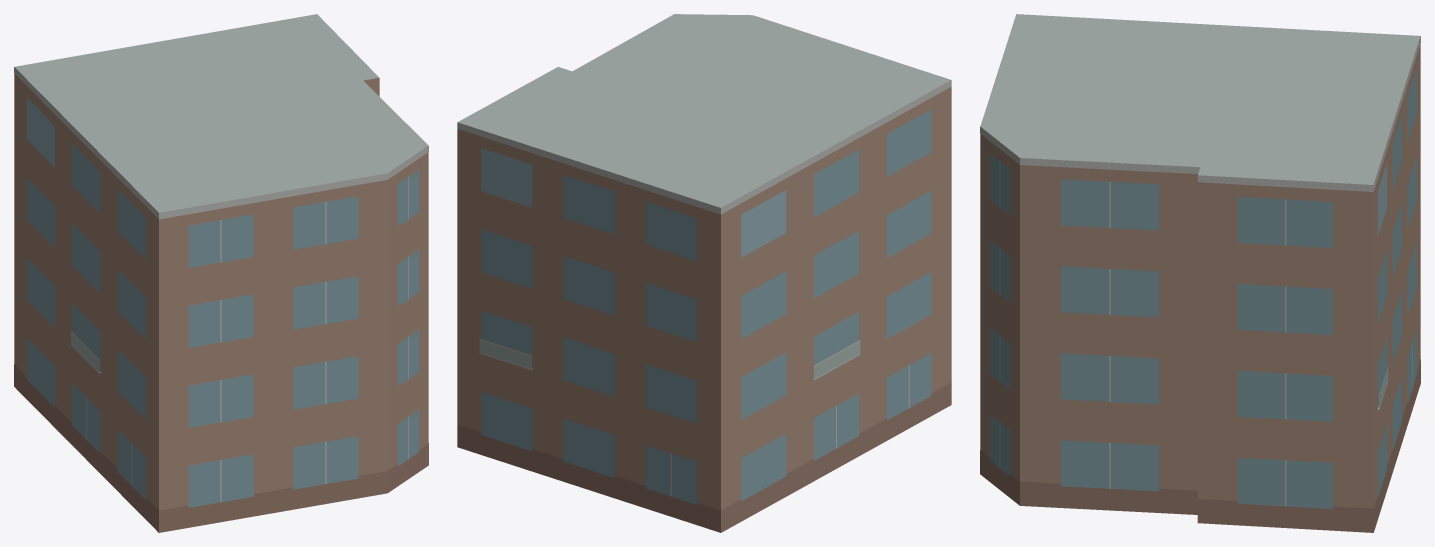
The model's file is survey-upis-32861435.glb.
The picture shows the model from 3 angles, left to right: view 1: azimuth 30°, elevation 25°; view 2: azimuth 150°, elevation 25°; view 3: azimuth 270°, elevation 25°; orthographic projection. The views are drawn at different scales.
Visible parts, largest first — view 1: survey-upis-32861435.tmp; view 2: survey-upis-32861435.tmp; view 3: survey-upis-32861435.tmp.
Part boxes in pixels (<box>): survey-upis-32861435.tmp: <box>14,14,428,532</box>; survey-upis-32861435.tmp: <box>457,14,951,532</box>; survey-upis-32861435.tmp: <box>980,14,1420,532</box>.
Bounding box in the file's own units: 12.77 × 12.1 × 13.9.
